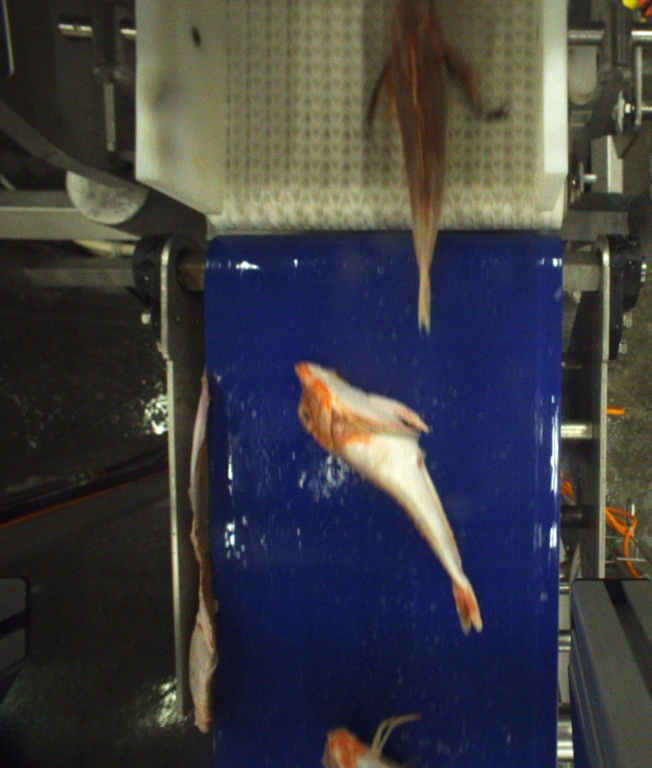GUU: (292, 364, 486, 641)
